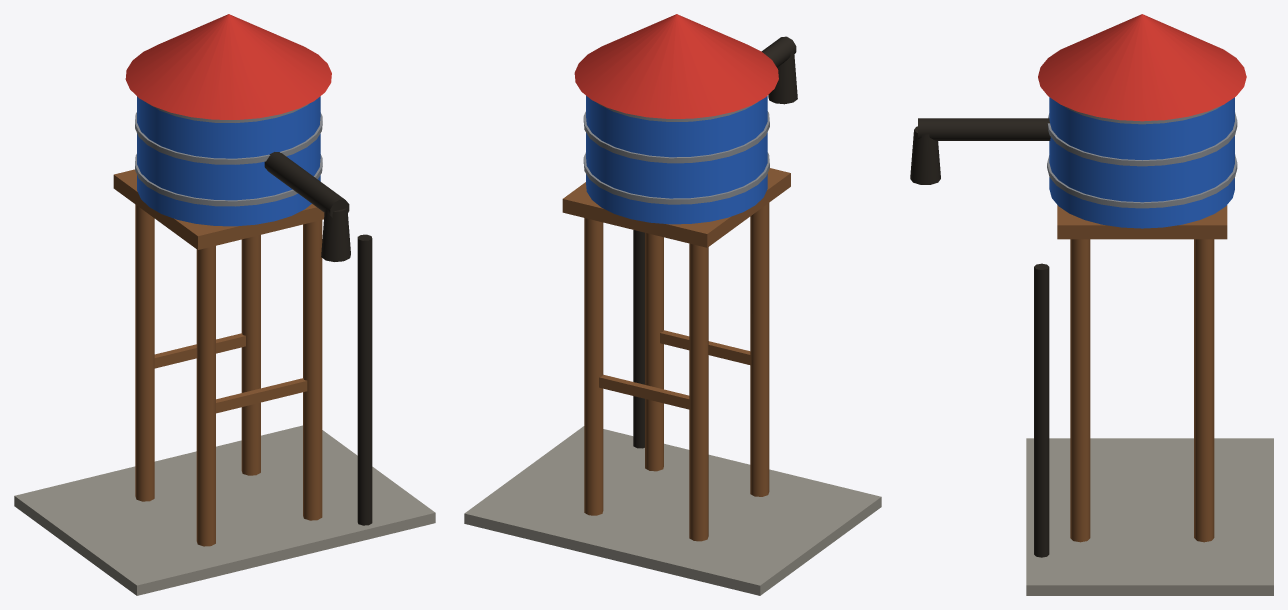
The model's file is water-tower.glb.
3 views of the same model, side by side, from view 1: azimuth 30°, elevation 25°; view 2: azimuth 150°, elevation 25°; view 3: azimuth 270°, elevation 25° (orthographic).
Parts seen in each view (by area): view 1: stone, darkWood, blue, red, black, steel; view 2: stone, darkWood, blue, red, black, steel; view 3: stone, blue, darkWood, red, black, steel.
Boxes of the visible parts, box(x1,y1,x2,y2) form: stone: box(14, 425, 435, 595); darkWood: box(113, 169, 324, 546); blue: box(137, 96, 320, 226); red: box(125, 14, 331, 119); black: box(264, 152, 372, 525); steel: box(135, 103, 322, 206); stone: box(464, 426, 881, 595); darkWood: box(562, 168, 790, 541); blue: box(586, 95, 767, 224); red: box(574, 14, 778, 118); black: box(633, 36, 797, 448); steel: box(583, 102, 769, 204); stone: box(1026, 438, 1273, 595); blue: box(1049, 97, 1234, 228); darkWood: box(1057, 205, 1227, 542); red: box(1038, 14, 1246, 121); black: box(910, 118, 1050, 557); steel: box(1047, 105, 1237, 208).
Bounding box in the file's own units: 90 × 145 × 94.
